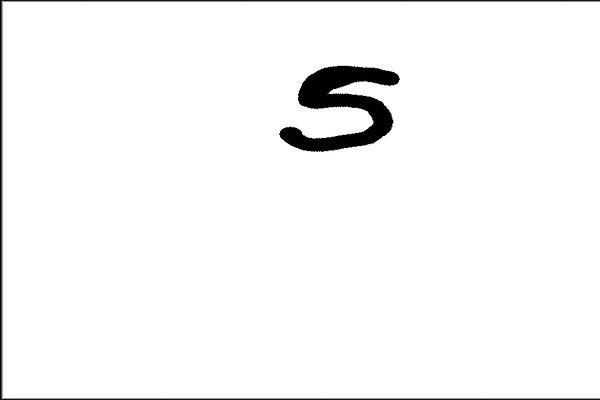S: (272, 58, 402, 154)
